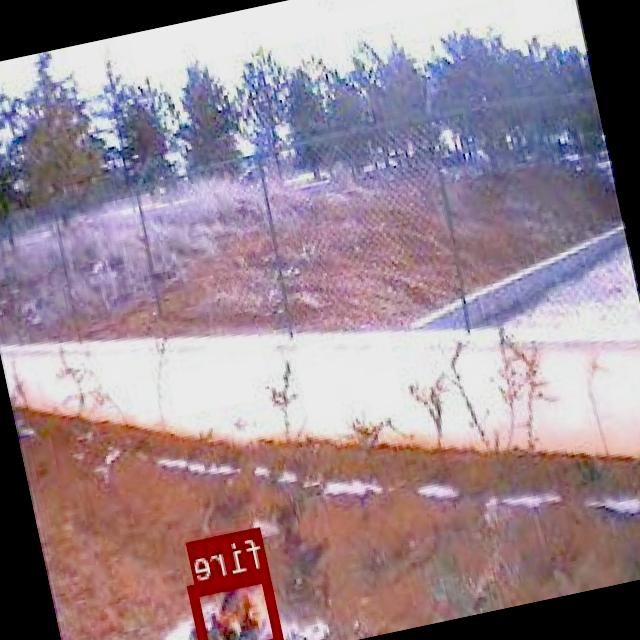fire: (189, 567, 286, 640)
